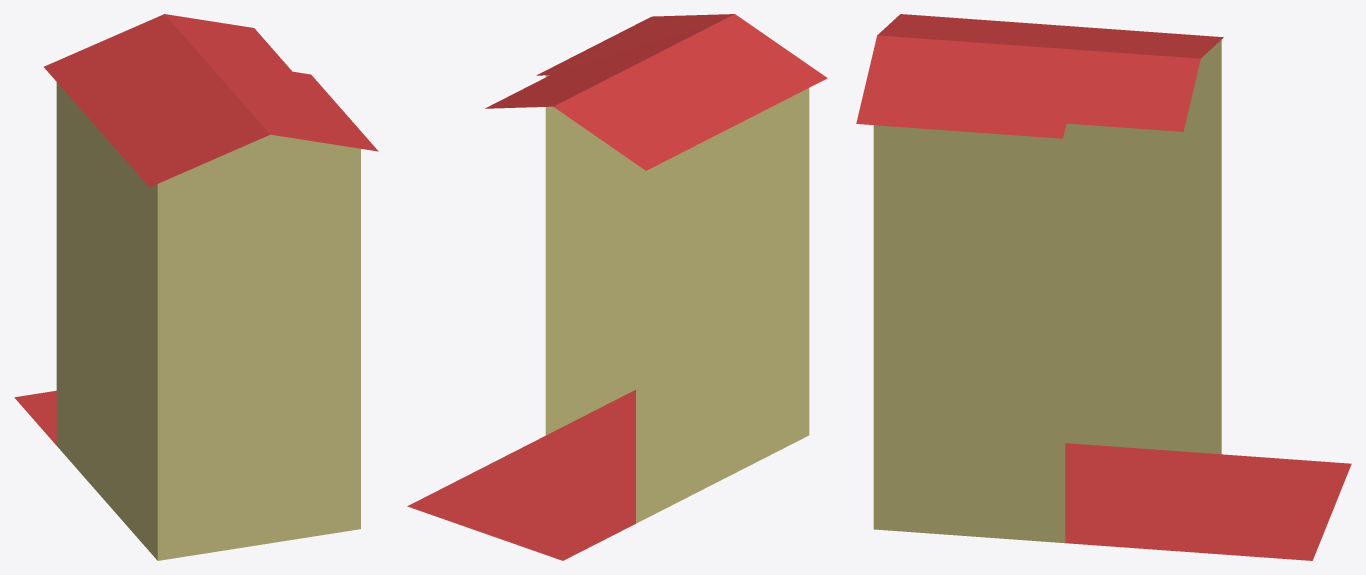
The picture shows the model from 3 angles, left to right: view 1: azimuth 30°, elevation 25°; view 2: azimuth 150°, elevation 25°; view 3: azimuth 270°, elevation 25°; orthographic projection. The views are drawn at different scales.
Bounding box in the file's own units: 5.31 × 8.16 × 8.12.
